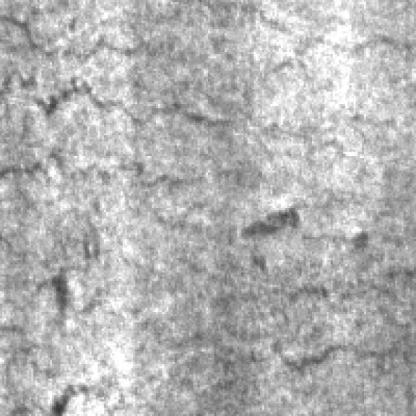crazing: (2, 4, 316, 146), (237, 195, 414, 387)
